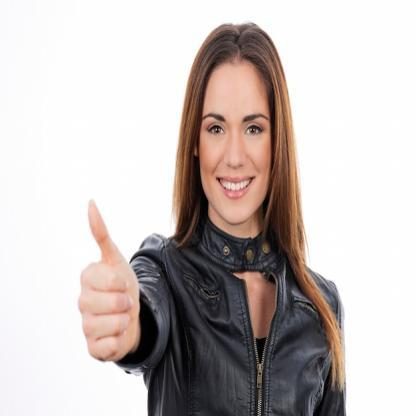thumb_up: (75, 194, 145, 367)
